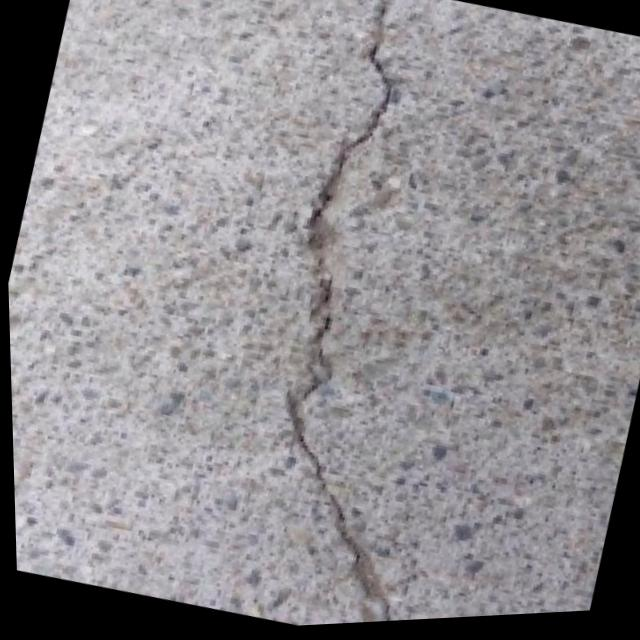Crack: (157, 0, 579, 634)
